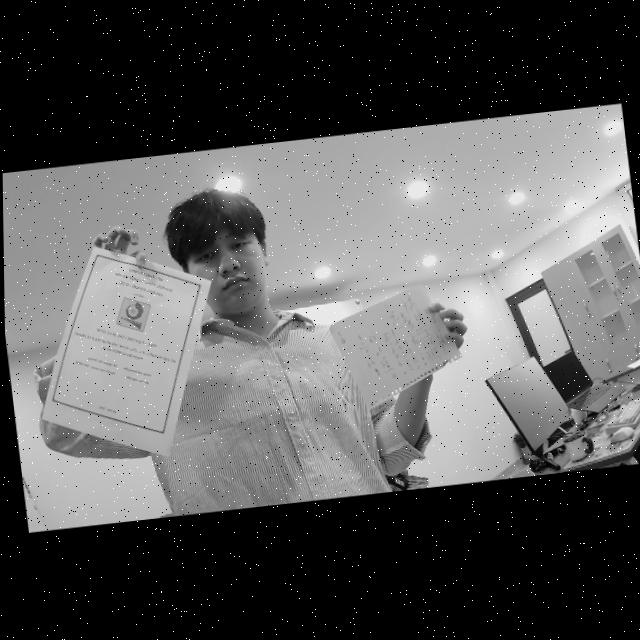document: (40, 246, 210, 457), (326, 283, 464, 409)
face: (189, 220, 272, 317)
